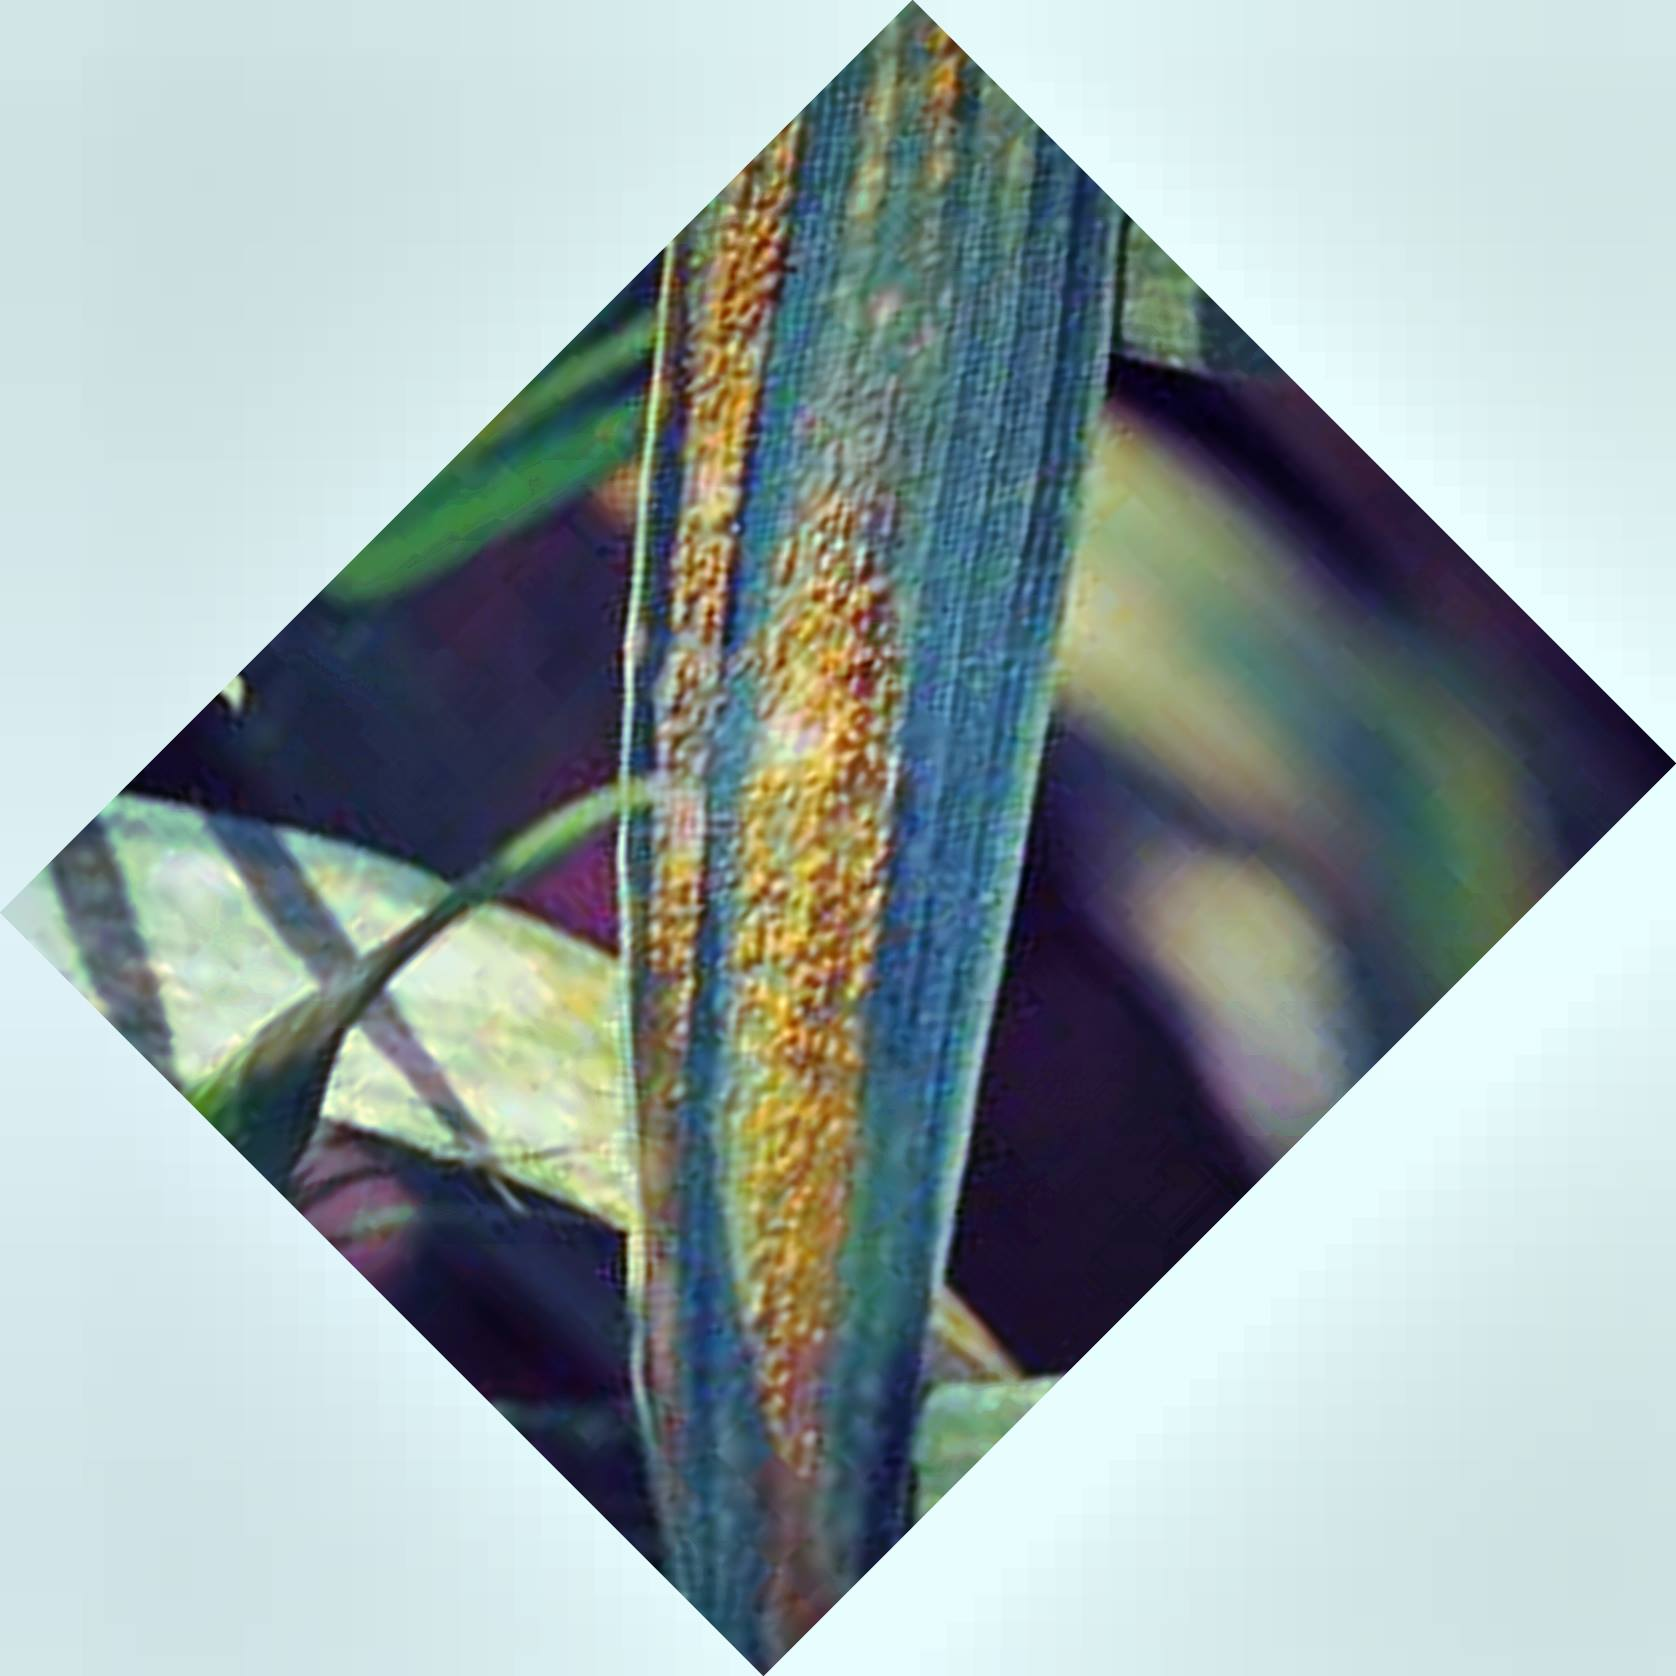Leaf Rust: (620, 177, 922, 1421)
